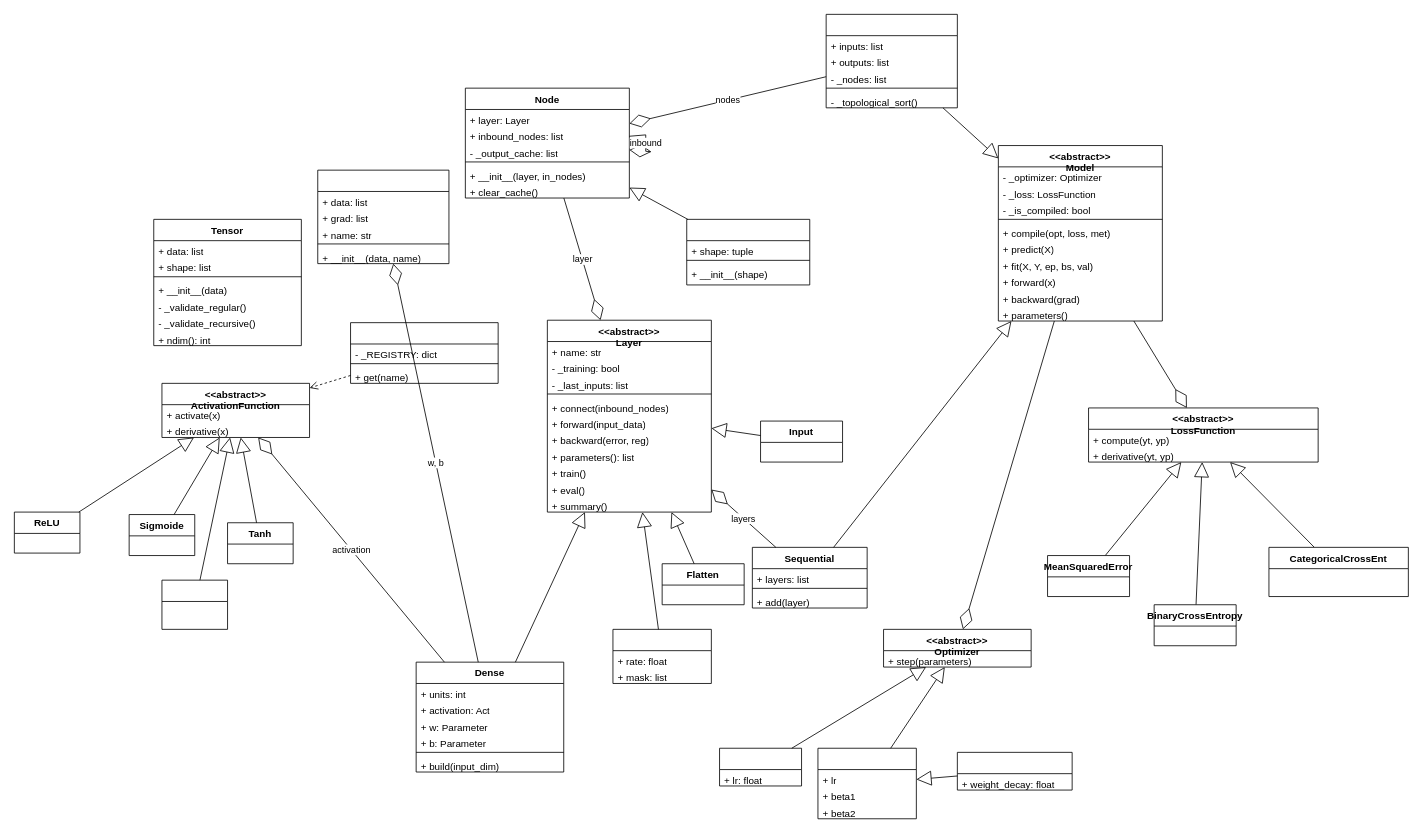
This 1423x836 diagram has some shape labels left out. Each missing label, with the box of its shape:
ActivationFunctionLoader: (350, 322, 498, 383)
Adam: (817, 747, 916, 819)
AdamW: (957, 752, 1072, 790)
Dropout: (612, 629, 711, 683)
Functional: (825, 14, 957, 108)
InputNode: (686, 219, 810, 285)
Parameter: (317, 169, 449, 264)
SGD: (719, 747, 802, 786)
Softmax: (161, 579, 228, 629)
